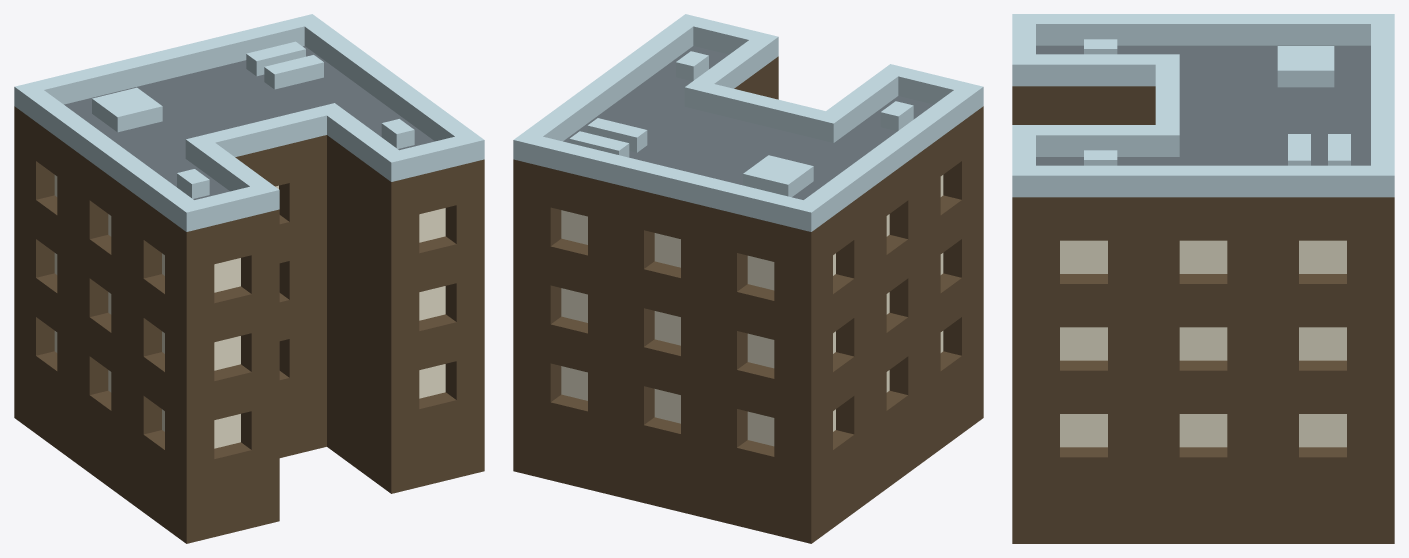
Rendered from Building_5_Extra (Brown).obj.
3 views of the same model, side by side, from view 1: azimuth 30°, elevation 25°; view 2: azimuth 150°, elevation 25°; view 3: azimuth 270°, elevation 25° (orthographic). The views are drawn at different scales.
Parts seen in each view (by area): view 1: Building_5_Extra_(Brown); view 2: Building_5_Extra_(Brown); view 3: Building_5_Extra_(Brown).
Part boxes in pixels (x1,y1,x2,y2): Building_5_Extra_(Brown): [14, 14, 484, 543]; Building_5_Extra_(Brown): [513, 14, 983, 543]; Building_5_Extra_(Brown): [1012, 14, 1394, 543].
Size of the model in its own units: 1.6 by 1.7 by 1.6.
